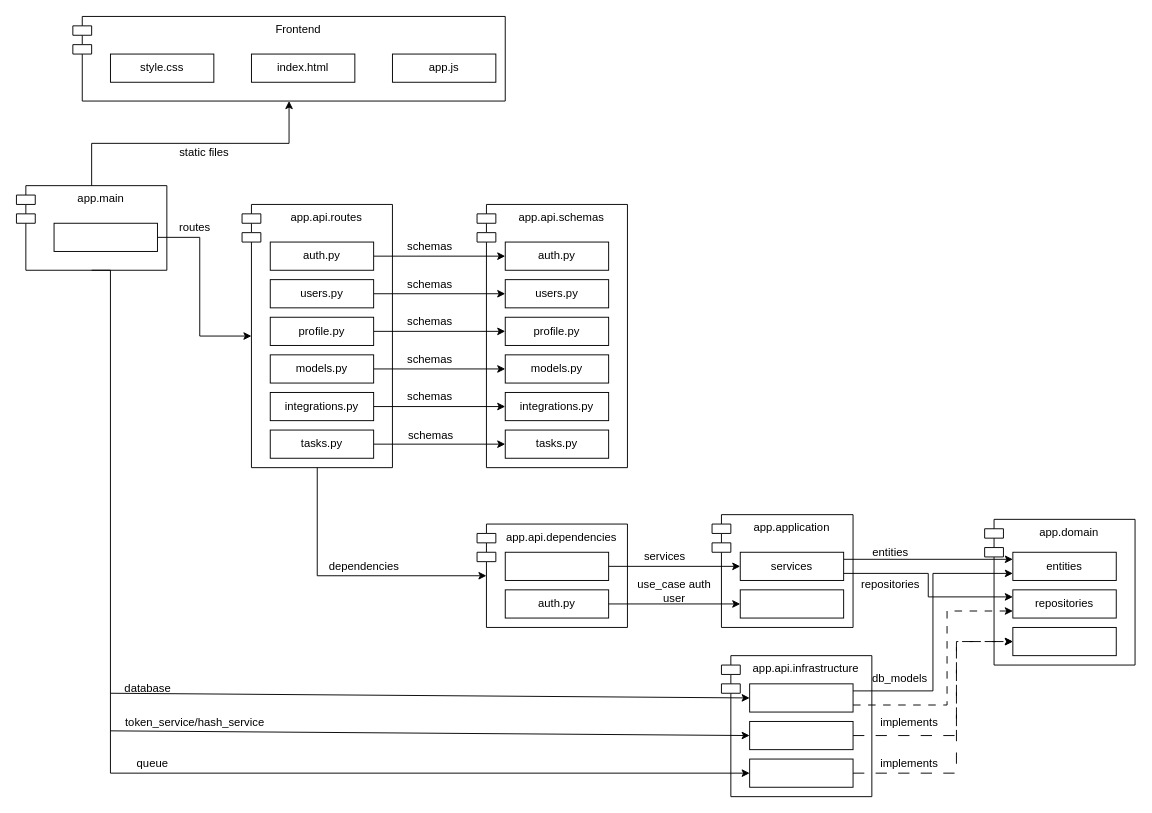
This 1152x813 diagram has some shape labels left out. The shapes that lost their labels are listed below. From the top down, each one's centre as x and y in pixels, then its label:
At (x=105, y=236): "main.py".
At (x=556, y=565): "services.py".
At (x=791, y=603): "auth_user.py".
At (x=1064, y=641): "interfaces".
At (x=801, y=697): "db".
At (x=801, y=735): "security".
At (x=801, y=772): "task_queue".
